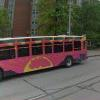Bus: (3, 30, 88, 75)
